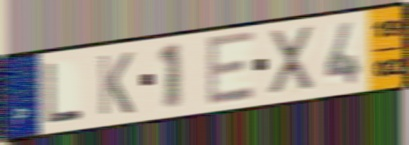1: (156, 40, 184, 114)
4: (323, 19, 364, 88)
E: (205, 29, 257, 110)
K: (96, 50, 136, 118)
L: (43, 60, 85, 125)
X: (266, 23, 316, 97)
